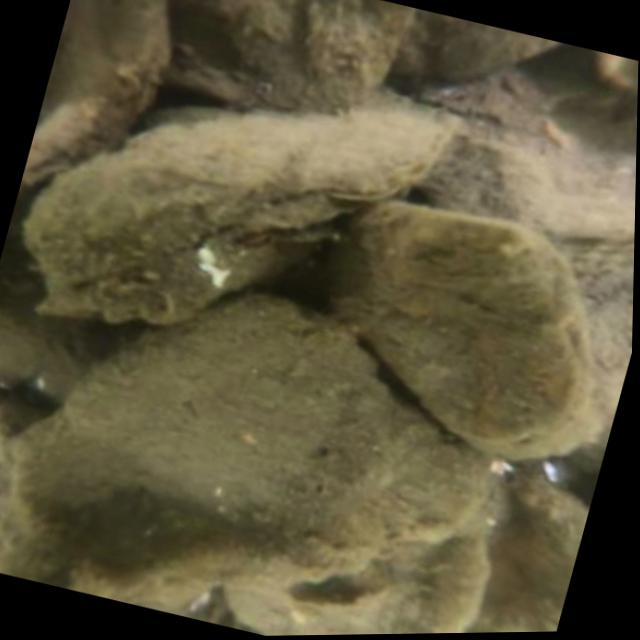Oyster-Indeterminate: (18, 301, 495, 608), (26, 111, 468, 320), (325, 205, 579, 446), (217, 531, 485, 636), (390, 10, 566, 86)
